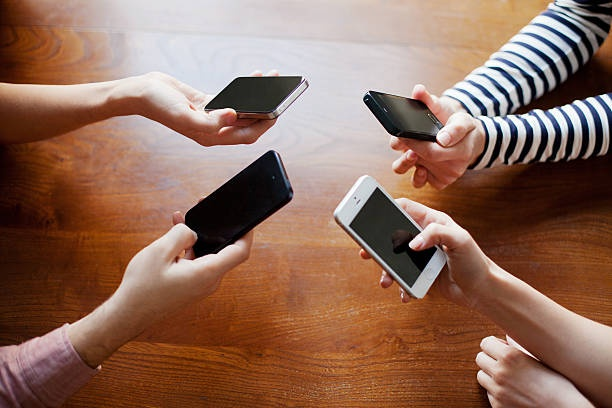phone: (332, 173, 447, 300), (182, 149, 296, 263), (203, 74, 309, 122), (362, 89, 448, 144)
